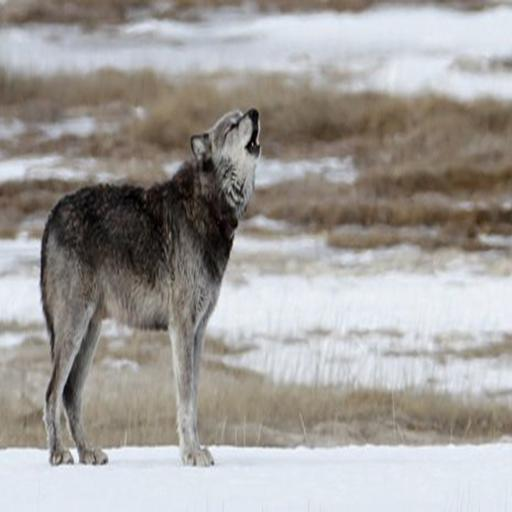Wolf: (36, 104, 277, 462)
